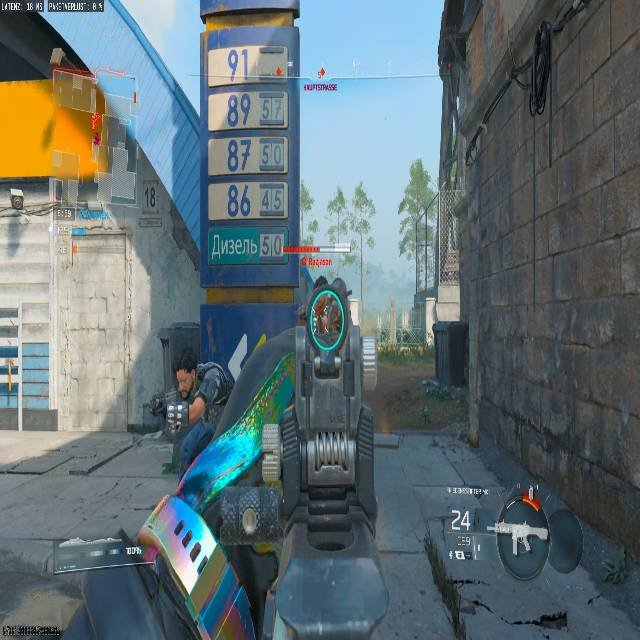head: (173, 350, 198, 391)
player: (149, 349, 217, 484), (420, 406, 431, 425)
